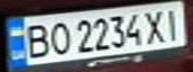2: (90, 14, 112, 52), (72, 16, 93, 53)
3: (109, 12, 130, 50)
4: (124, 10, 148, 47)
B: (18, 20, 54, 60)
I: (157, 4, 187, 42)
O: (45, 19, 72, 56)
X: (142, 7, 169, 44)
